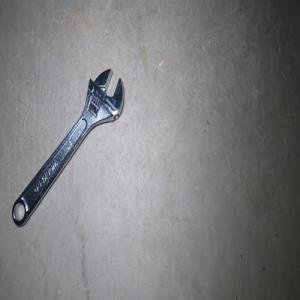Wrench: (11, 68, 123, 226)
